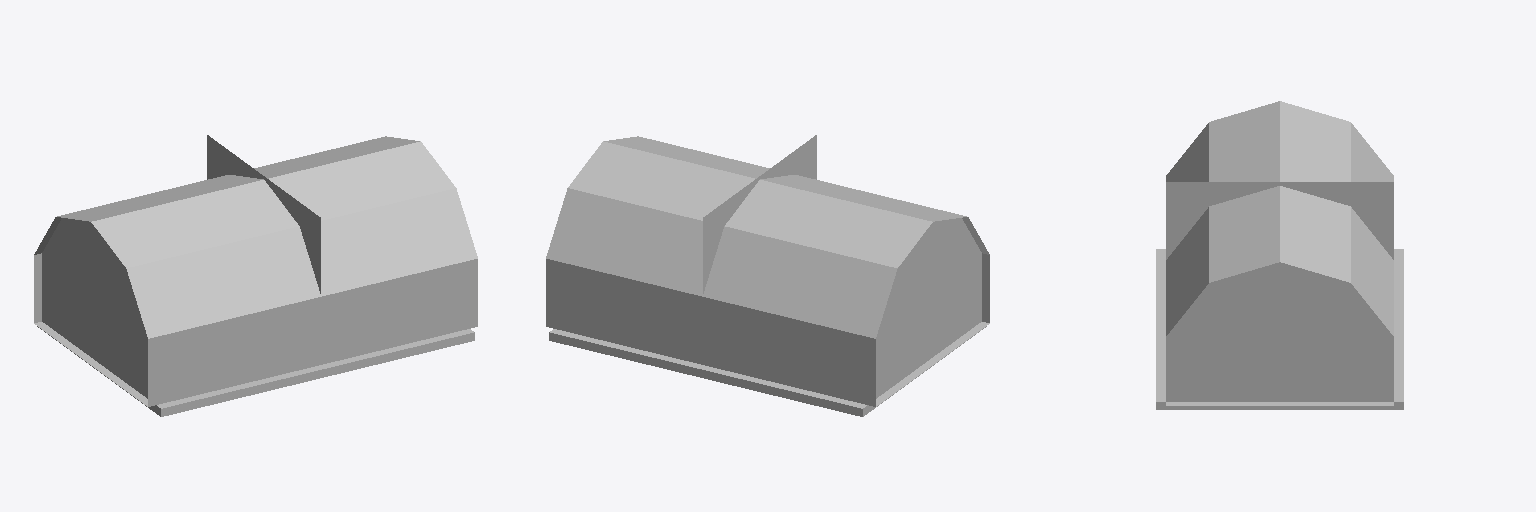
File: lobster_trap_4.obj
3 views of the same model, side by side, from view 1: azimuth 30°, elevation 25°; view 2: azimuth 150°, elevation 25°; view 3: azimuth 270°, elevation 25° (orthographic).
Visible parts, largest first — view 1: cover_inside, cover_outside, underneath, middle; view 2: cover_inside, cover_outside, underneath, middle; view 3: cover_inside, cover_outside, middle, underneath.
Part boxes in pixels (left/top/right/bottom): cover_inside: left=34, top=139, right=477, bottom=406; cover_outside: left=34, top=136, right=477, bottom=405; underneath: left=37, top=326, right=474, bottom=416; middle: left=207, top=135, right=320, bottom=293; cover_inside: left=546, top=136, right=989, bottom=406; cover_outside: left=546, top=137, right=989, bottom=406; underneath: left=549, top=326, right=986, bottom=416; middle: left=703, top=135, right=816, bottom=293; cover_inside: left=1166, top=101, right=1393, bottom=405; cover_outside: left=1166, top=103, right=1393, bottom=405; middle: left=1166, top=182, right=1393, bottom=259; underneath: left=1156, top=249, right=1403, bottom=409.
Bounding box in the file's own units: 1.25 × 0.5625 × 0.8125.